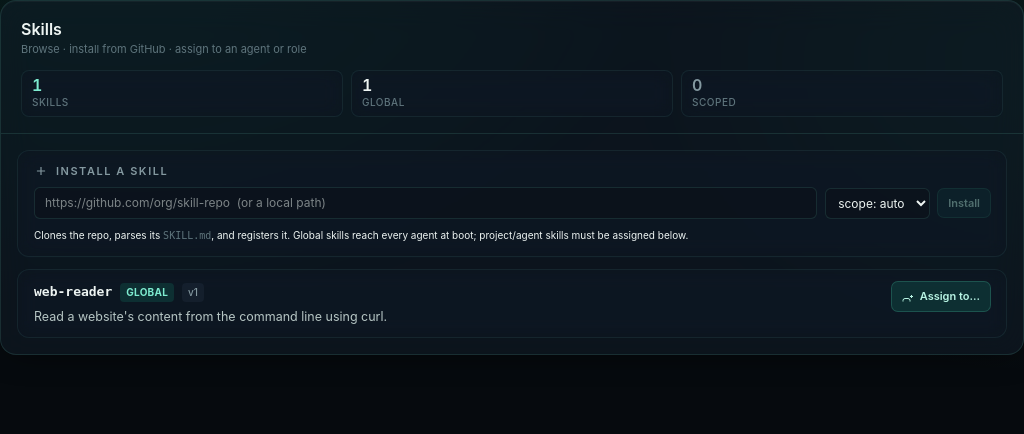
Scenario: SkillsView — assign to an agent/role › does not bind for a blank subject (the Assign button is disabled)
Step 1. Click the button "Assign to…" → coordinates (941, 297), box [892,282,990,311]
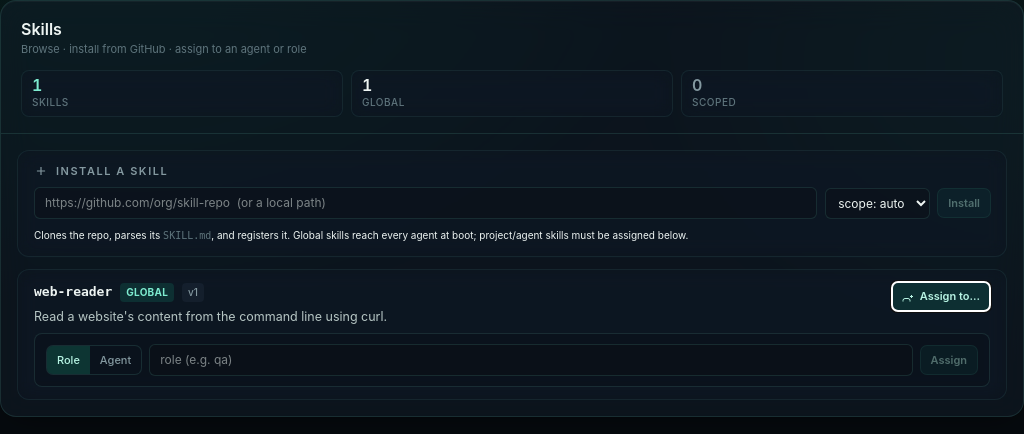
Expected: the button "Assign" is disabled, [920,346,977,374]
